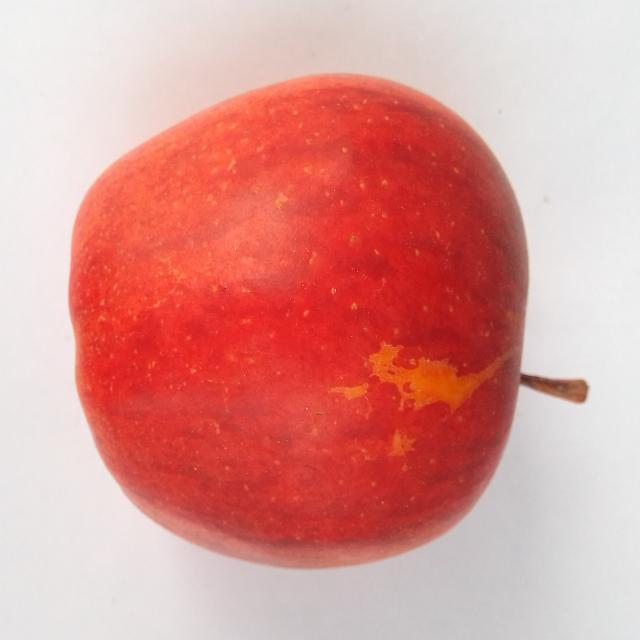Fresh Apple: (62, 73, 528, 570)
